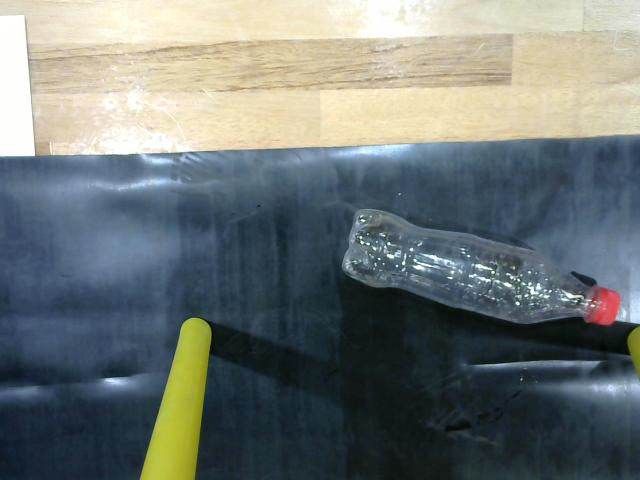bottle: (337, 200, 626, 331)
